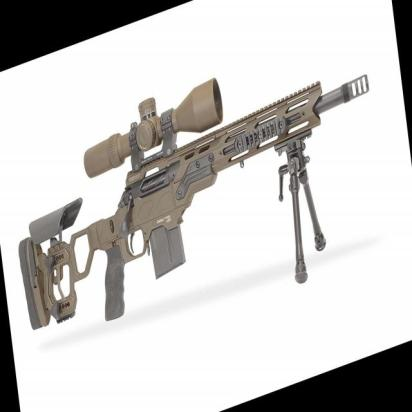Gun: (17, 72, 372, 339)
